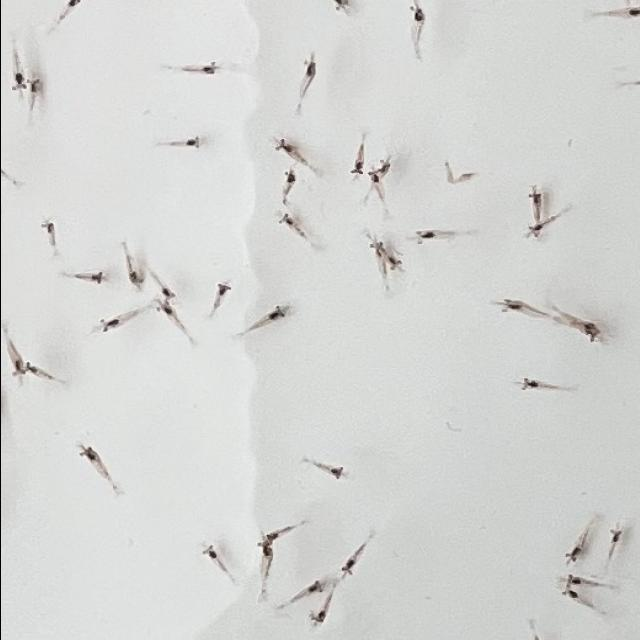shrimp-seed: (499, 296, 520, 316), (98, 316, 119, 334), (76, 442, 96, 460), (125, 272, 144, 290), (406, 5, 426, 22), (414, 227, 434, 244), (604, 528, 622, 546), (272, 138, 292, 154), (302, 56, 318, 76), (564, 572, 584, 588), (26, 77, 42, 95), (10, 75, 26, 93), (158, 286, 176, 302), (263, 528, 281, 544), (202, 60, 220, 76), (268, 304, 286, 320), (346, 158, 364, 174), (526, 188, 542, 206), (562, 546, 580, 562), (200, 542, 217, 558), (255, 540, 272, 556), (561, 584, 578, 600), (519, 377, 537, 392), (38, 218, 54, 234), (307, 578, 323, 594), (310, 612, 326, 628), (184, 134, 200, 150), (526, 223, 542, 239), (580, 320, 596, 336), (339, 559, 354, 576), (62, 0, 82, 12), (214, 281, 230, 296), (368, 240, 383, 256), (330, 463, 344, 480), (24, 360, 38, 376), (90, 271, 106, 285), (154, 300, 170, 314), (282, 169, 298, 183), (277, 212, 293, 226), (386, 257, 402, 271), (624, 4, 640, 18), (376, 160, 392, 173), (332, 1, 350, 12), (10, 364, 24, 378), (366, 168, 380, 182), (586, 331, 600, 343)
